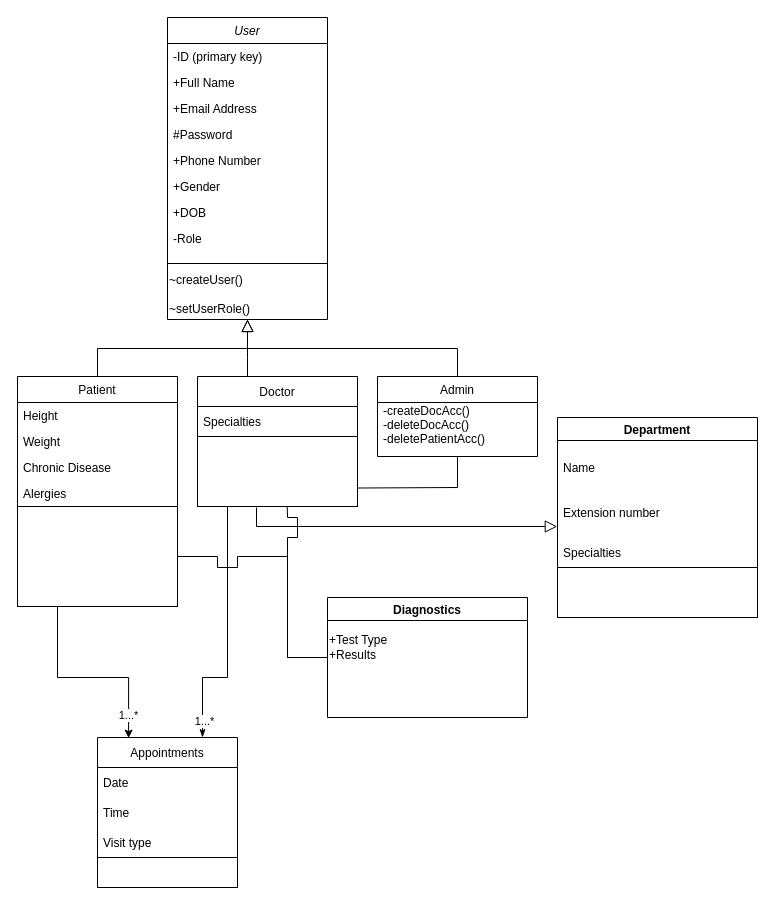
The diagram is 775 pixels wide and 905 high, and some of its shapes have lost their labels. Each missing label, with the centre of its shape:
"setDepartmentInfo()" goes at pixel 657 592.
"~creatApp() ~reschedualApp()" goes at pixel 167 872.
"~setHeight() ~setWeight() ~setDisease() ~setAlergies()" goes at pixel 97 556.
"~setSpecialties() -makeDiganosticRequest() -describMedicine()" goes at pixel 277 471.
